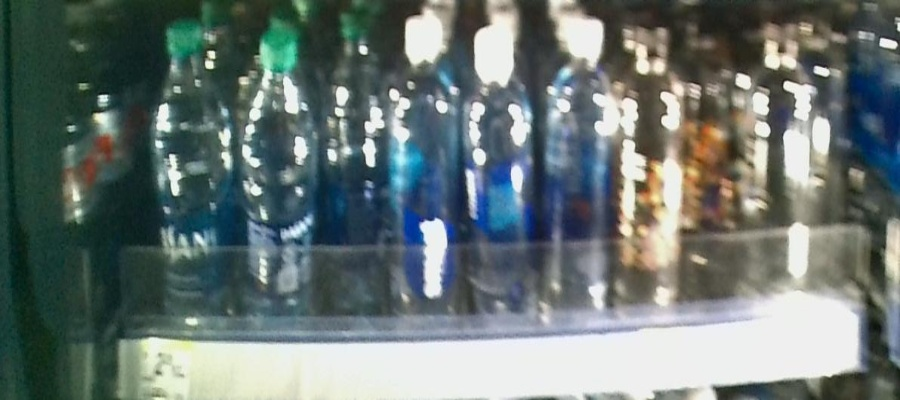bottle: (149, 12, 234, 339), (241, 33, 319, 329), (461, 25, 537, 314), (392, 18, 459, 317), (323, 15, 387, 327), (541, 20, 609, 309), (617, 28, 685, 308)
